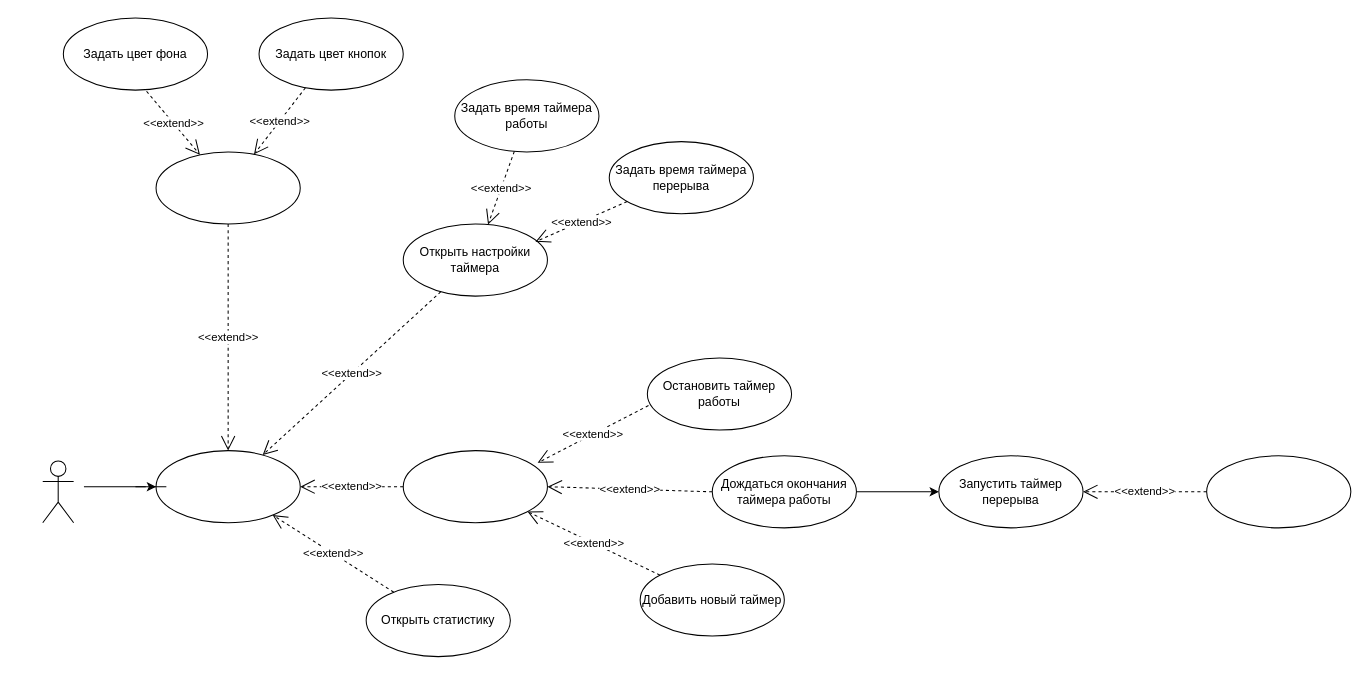
The diagram is 1369 pixels wide and 675 high, and some of its shapes have lost their labels. Each missing label, with the centre of its shape:
"Запустить программу" belongs at [227,486].
"Запустить таймер работы" belongs at [474,486].
"Остановить таймер перерыва" belongs at [1278,491].
"Открыть графические настройки" belongs at [227,187].
"Пользователь" belongs at [58,491].
